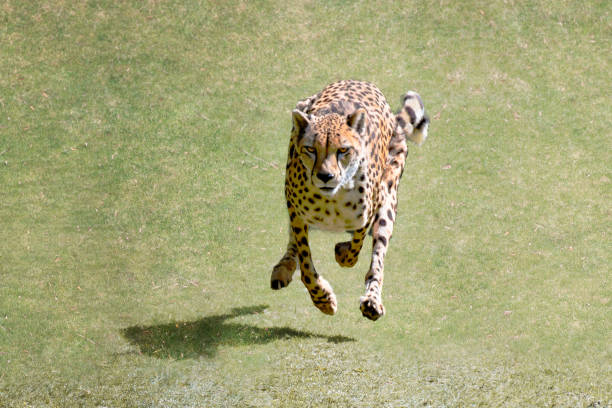cheetah: (282, 101, 368, 202)
